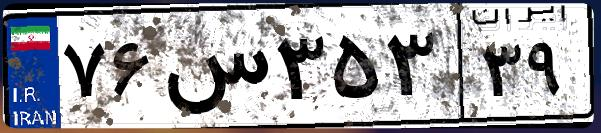3: (270, 28, 330, 110), (385, 28, 445, 110), (475, 38, 525, 113)
5: (330, 28, 385, 110)
6: (110, 28, 158, 98)
7: (57, 26, 110, 100)
9: (525, 38, 570, 115)
س: (158, 20, 270, 120)
